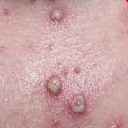Chickenpox: (45, 75, 87, 117), (48, 9, 68, 21)
